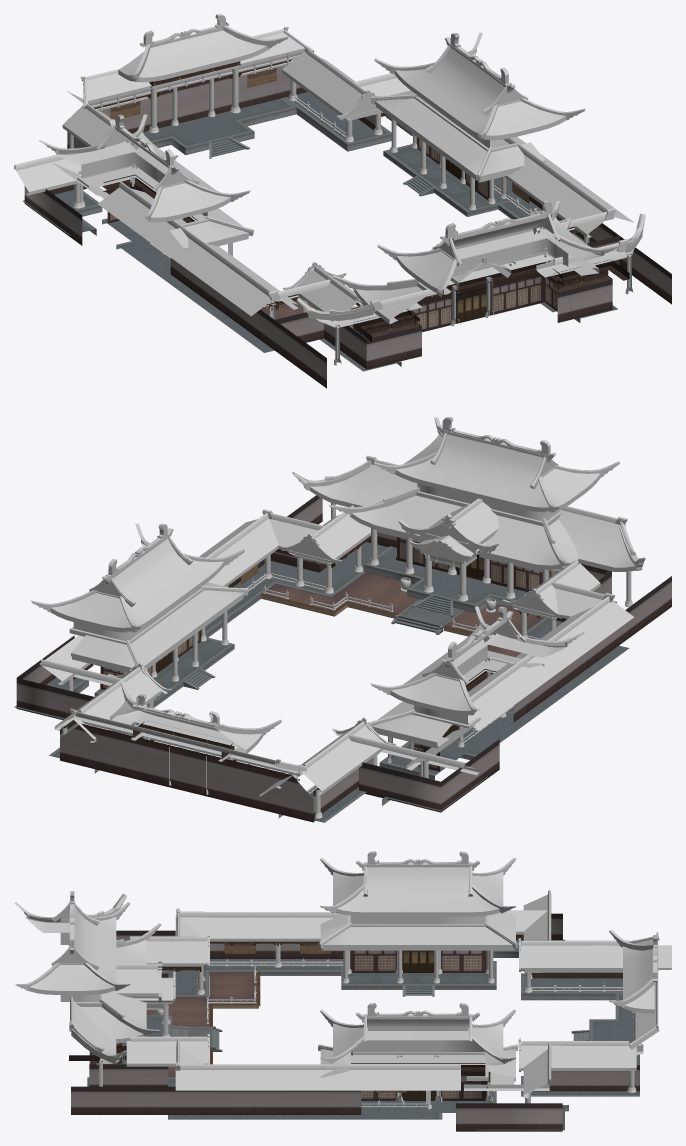
The picture shows the model from 3 angles, top to bottom: view 1: azimuth 30°, elevation 25°; view 2: azimuth 150°, elevation 25°; view 3: azimuth 270°, elevation 25°; orthographic projection. The views are drawn at different scales.
Visible parts, largest first — view 1: F1001_WU0101, F1001_WU0206, F1001_WU0102, F1001_WU0201, F1001_WU0205, F1001_WU0203, F1001_WU0202, F1001_WU0204; view 2: F1001_WU0101, F1001_WU0205, F1001_WU0102, F1001_WU0201, F1001_WU0206, F1001_WU0203, F1001_WU0204, F1001_WU0202; view 3: F1001_WU0101, F1001_WU0203, F1001_WU0206, F1001_WU0102, F1001_WU0202, F1001_WU0201, F1001_WU0205, F1001_WU0204.
Part boxes in pixels (bbox=[...]): F1001_WU0101: bbox=[98, 137, 645, 365]; F1001_WU0206: bbox=[14, 14, 410, 208]; F1001_WU0102: bbox=[110, 67, 629, 371]; F1001_WU0201: bbox=[371, 32, 585, 210]; F1001_WU0205: bbox=[23, 59, 412, 245]; F1001_WU0203: bbox=[39, 114, 253, 256]; F1001_WU0202: bbox=[383, 137, 671, 304]; F1001_WU0204: bbox=[102, 174, 326, 388]; F1001_WU0101: bbox=[199, 417, 645, 747]; F1001_WU0205: bbox=[14, 635, 499, 822]; F1001_WU0102: bbox=[205, 532, 629, 760]; F1001_WU0201: bbox=[31, 523, 248, 681]; F1001_WU0206: bbox=[40, 635, 479, 818]; F1001_WU0203: bbox=[369, 606, 584, 763]; F1001_WU0204: bbox=[379, 576, 671, 779]; F1001_WU0202: bbox=[94, 495, 322, 708]; F1001_WU0101: bbox=[14, 891, 460, 1109]; F1001_WU0203: bbox=[318, 851, 518, 983]; F1001_WU0206: bbox=[464, 890, 671, 1103]; F1001_WU0102: bbox=[69, 941, 442, 1119]; F1001_WU0202: bbox=[71, 1063, 496, 1114]; F1001_WU0201: bbox=[318, 1003, 518, 1101]; F1001_WU0205: bbox=[456, 913, 639, 1131]; F1001_WU0204: bbox=[116, 930, 496, 996].
Bounding box in the file's own units: 4941 × 1459 × 6770.
